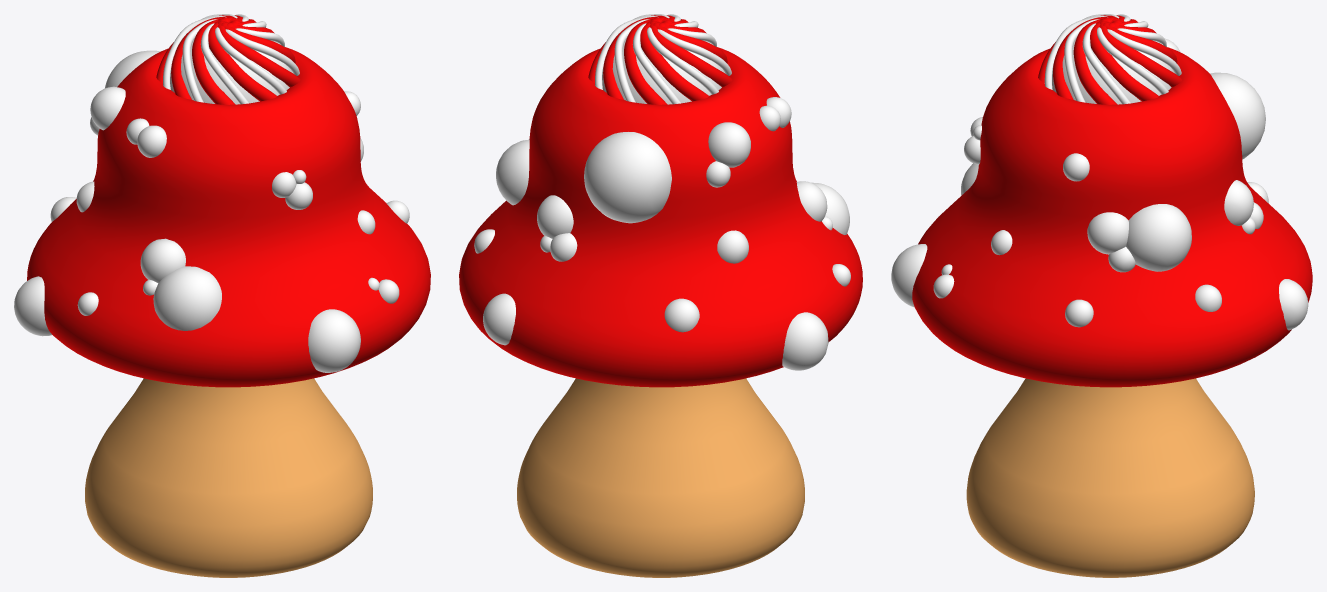
The model's file is shroom_1.glb.
3 renders of one model, left to right at view 1: azimuth 30°, elevation 25°; view 2: azimuth 150°, elevation 25°; view 3: azimuth 270°, elevation 25°, orthographic.
Parts seen in each view (by area): view 1: r.0035; view 2: r.0035; view 3: r.0035.
Part boxes in pixels (x1=…): r.0035: x1=14, y1=14, x2=430, y2=577; r.0035: x1=459, y1=14, x2=862, y2=577; r.0035: x1=891, y1=14, x2=1312, y2=577.
Bounding box in the file's own units: 0.9622 × 1.3 × 0.9697.
